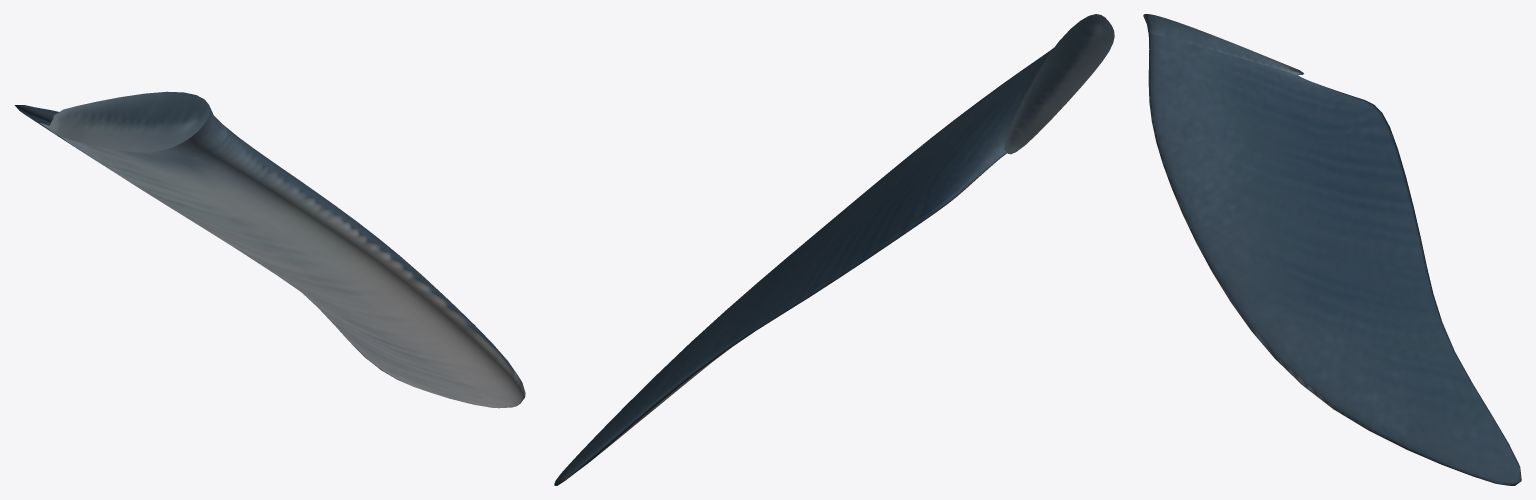
Rendered from AletaIzqDelfin.obj.
The picture shows the model from 3 angles, left to right: view 1: azimuth 30°, elevation 25°; view 2: azimuth 150°, elevation 25°; view 3: azimuth 270°, elevation 25°; orthographic projection. The views are drawn at different scales.
Parts seen in each view (by area): view 1: AletaIzq; view 2: AletaIzq; view 3: AletaIzq.
Part boxes in pixels (<box>): AletaIzq: <box>14,91,525,408</box>; AletaIzq: <box>554,14,1114,485</box>; AletaIzq: <box>1143,14,1521,485</box>.
Size of the model in its own units: 2.53 by 2.71 by 2.76.
1 material, 1 textured.
